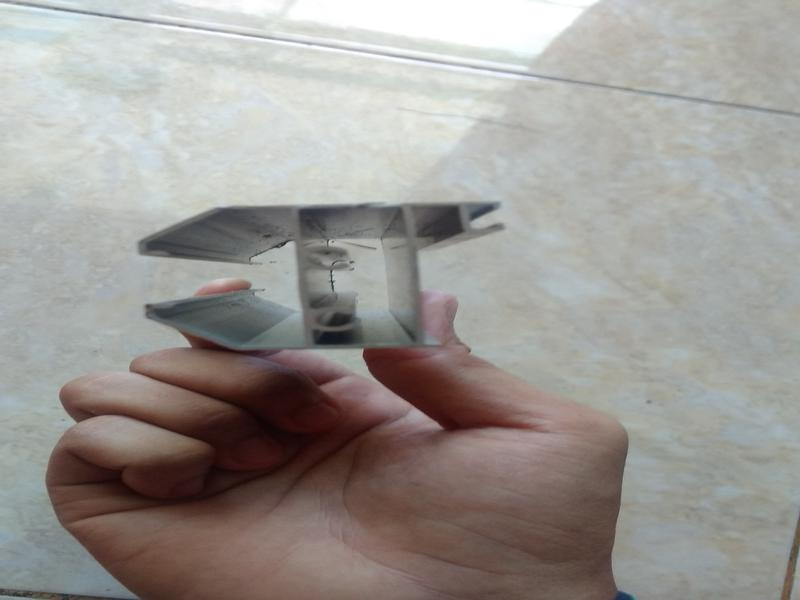Aluminium_3: (122, 174, 520, 354)
